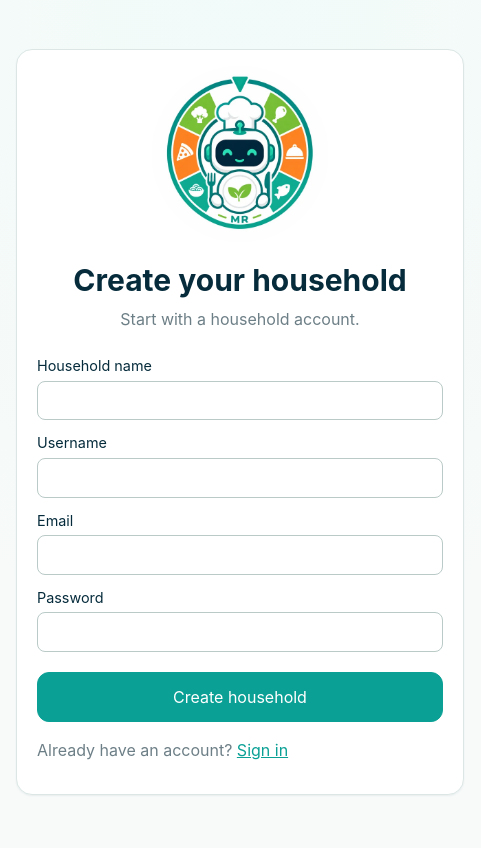
Test: signup and join pages › shows API errors during signup without redirecting
Type "Casa" into the field labelled "Household name" at [240, 400], box [37,381,443,420]
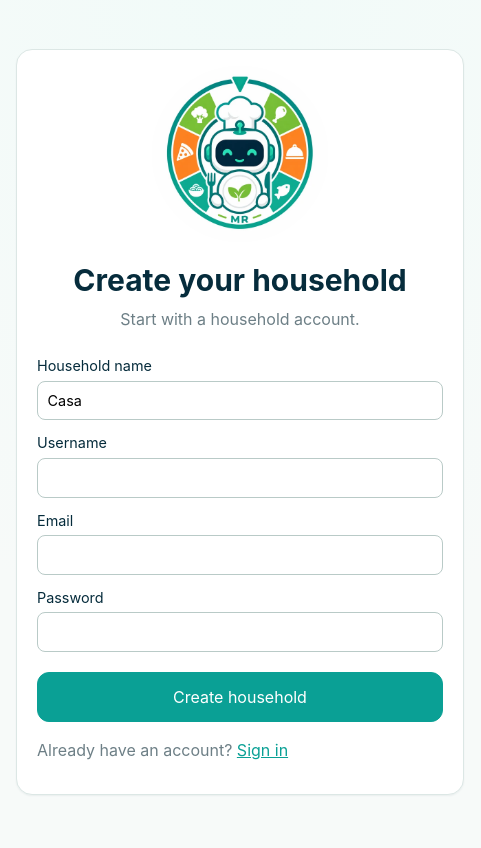
Type "didac" into the field labelled "Username" at [240, 478], box [37,458,443,498]
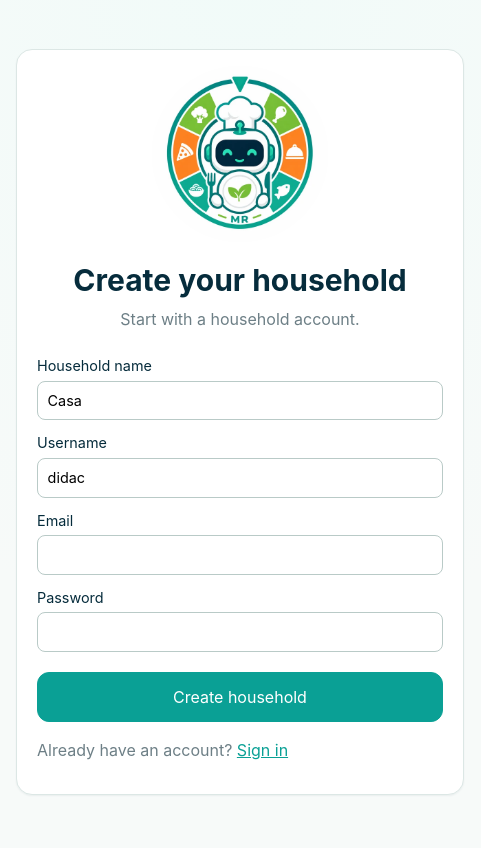
Type "didac@example.com" into the field labelled "Email" at [240, 555], box [37,535,443,575]
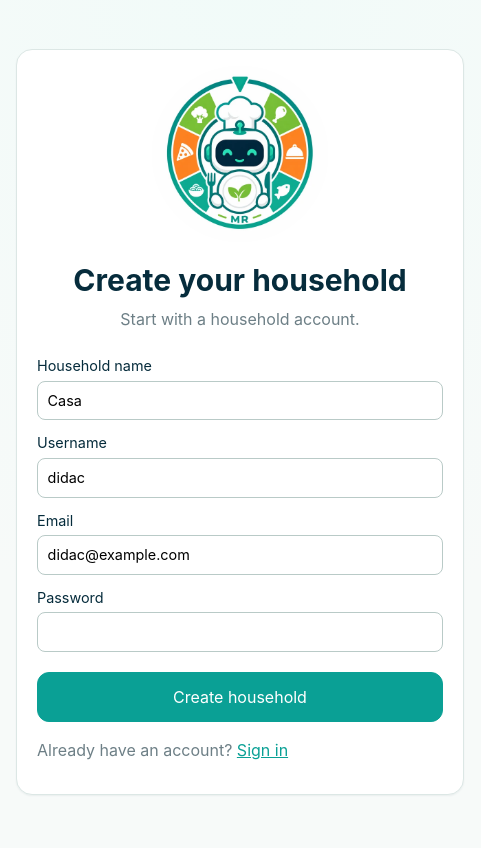
Type "supersecret" into the password field labelled "Password" at [240, 632], box [37,612,443,652]
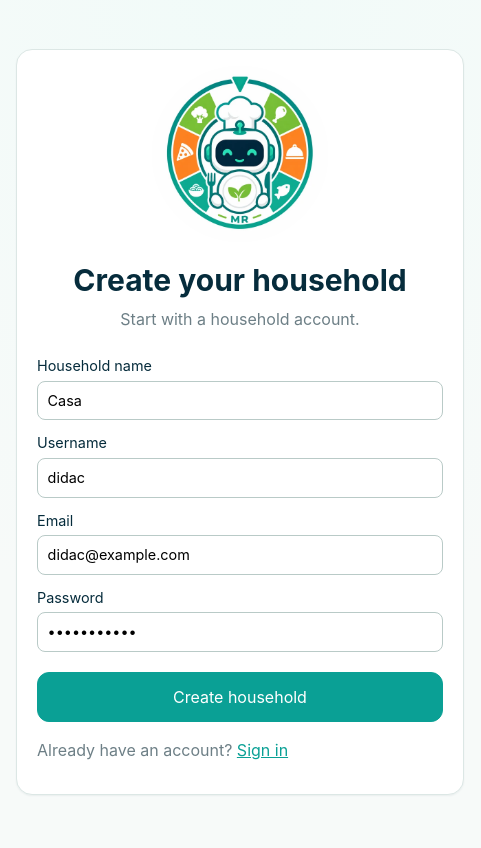
Click the button "Create household" at [240, 697], box [37,672,443,722]
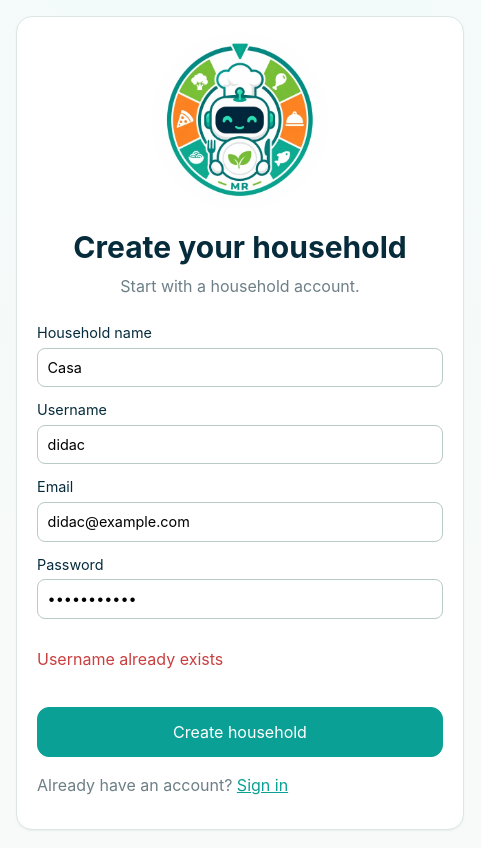
Expected: the message reads "Username already exists", [37,649,223,669]
